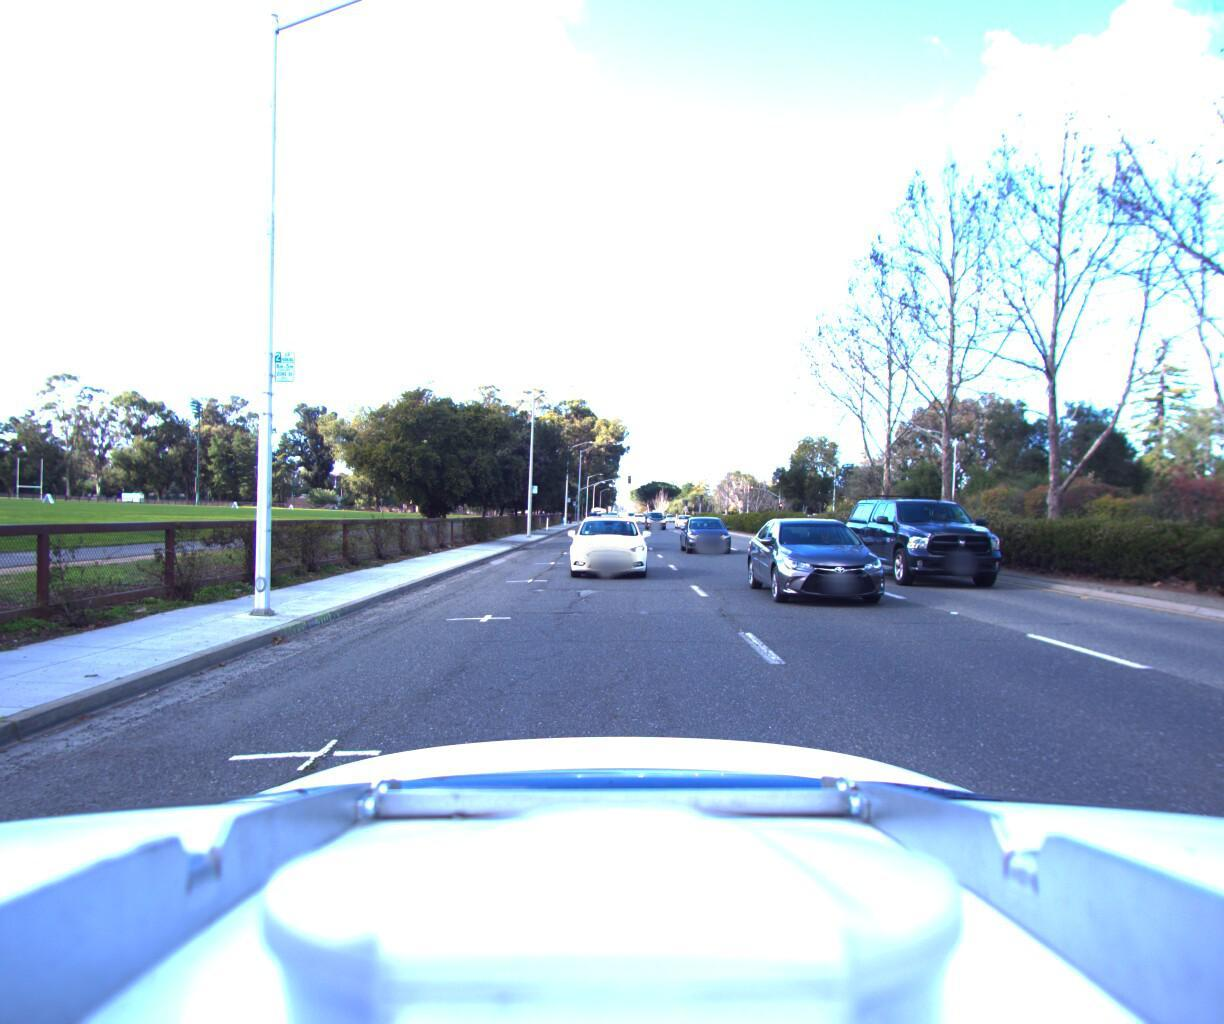car: (853, 481, 1039, 593), (748, 502, 928, 615), (559, 506, 655, 577), (677, 510, 742, 552), (645, 508, 668, 526)
